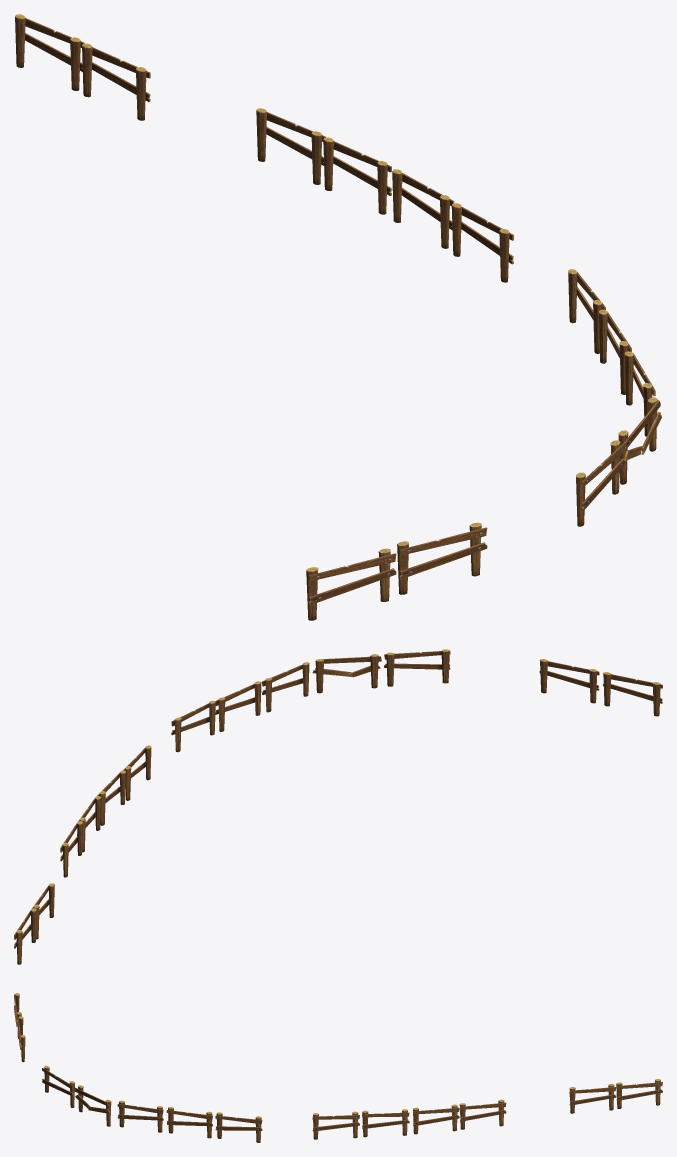
Rendered from Area_09_47.fbx.
The picture shows the model from 3 angles, top to bottom: view 1: azimuth 30°, elevation 25°; view 2: azimuth 150°, elevation 25°; view 3: azimuth 270°, elevation 25°; orthographic projection. The views are drawn at different scales.
Parts seen in each view (by area): view 1: Area_09_47; view 2: Area_09_47; view 3: Area_09_47.
Part boxes in pixels (x1,y1,x2,y2): Area_09_47: [15, 14, 661, 620]; Area_09_47: [14, 649, 662, 964]; Area_09_47: [14, 993, 662, 1142].
Bounding box in the file's own units: 1500 × 146 × 3275.
